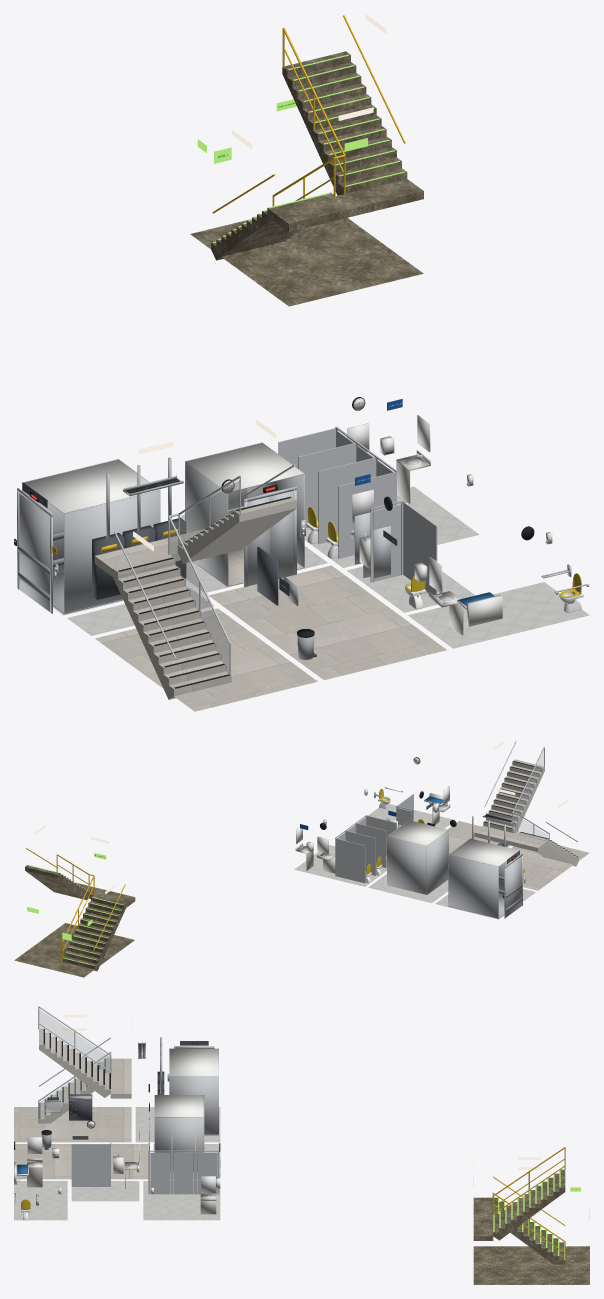
Rendered from 08_n1_nucleo_y_escaleras.glb.
The picture shows the model from 3 angles, top to bottom: view 1: azimuth 30°, elevation 25°; view 2: azimuth 150°, elevation 25°; view 3: azimuth 270°, elevation 25°; orthographic projection. The views are drawn at different scales.
Parts seen in each view (by area): view 1: escalera de dos tramos, escalera de dos tramos.002, piso · Vestíbulo de elevador, piso · Escalera de emergencia, cabina_montacargas, cabina_elevador_accesible, mamparas de sanitario, piso · Escalera principal, piso · Sanitario neutro, puertas_montacargas, mamparas de sanitario.001, puertas_elevador_120 (+9 smaller); view 2: escalera de dos tramos.002, escalera de dos tramos, cabina_montacargas, cabina_elevador_accesible, mamparas de sanitario, piso · Escalera de emergencia, piso · Escalera principal, puertas_montacargas, lavabo_ceramica (×2), piso · Elevador, piso · Sanitarios · mujeres, piso · Vestíbulo de elevador (+2 smaller); view 3: escalera de dos tramos, escalera de dos tramos.002, piso · Escalera de emergencia, piso · Escalera principal, mamparas de sanitario, cabina_elevador_accesible, cabina_montacargas, piso · Vestíbulo de elevador, piso · Sanitarios · mujeres, piso · Sanitario neutro, mamparas de sanitario.001, lavabo_ceramica (×2) (+3 smaller).
Part boxes in pixels (x1,y1,x2,y2): escalera de dos tramos: (94, 419, 296, 699); escalera de dos tramos.002: (211, 14, 423, 260); piso · Vestíbulo de elevador: (208, 565, 446, 680); piso · Escalera de emergencia: (190, 218, 423, 306); cabina_montacargas: (22, 459, 160, 614); cabina_elevador_accesible: (185, 442, 304, 586); mamparas de sanitario: (278, 426, 397, 558); piso · Escalera principal: (95, 608, 317, 711); piso · Sanitario neutro: (408, 582, 589, 648); puertas_montacargas: (17, 488, 58, 613); mamparas de sanitario.001: (370, 500, 437, 594); puertas_elevador_120: (243, 484, 305, 587); escalera de dos tramos.002: (25, 824, 135, 971); escalera de dos tramos: (474, 740, 578, 866); cabina_montacargas: (448, 838, 520, 918); cabina_elevador_accesible: (387, 820, 448, 894); mamparas de sanitario: (335, 815, 396, 883); piso · Escalera de emergencia: (14, 923, 134, 977); piso · Escalera principal: (511, 846, 589, 890); puertas_montacargas: (504, 853, 525, 918); lavabo_ceramica (×2): (295, 827, 335, 873); piso · Elevador: (368, 874, 448, 903); piso · Sanitarios · mujeres: (294, 845, 386, 886); piso · Vestíbulo de elevador: (447, 821, 510, 853); escalera de dos tramos: (38, 1006, 131, 1123); escalera de dos tramos.002: (473, 1147, 565, 1264); piso · Escalera de emergencia: (473, 1246, 589, 1284); piso · Escalera principal: (14, 1107, 131, 1142); mamparas de sanitario: (148, 1135, 219, 1194); cabina_elevador_accesible: (154, 1095, 204, 1172); cabina_montacargas: (169, 1048, 218, 1135); piso · Vestíbulo de elevador: (14, 1144, 148, 1179); piso · Sanitarios · mujeres: (143, 1181, 220, 1220); piso · Sanitario neutro: (14, 1181, 67, 1220); mamparas de sanitario.001: (71, 1134, 111, 1186); lavabo_ceramica (×2): (27, 1137, 216, 1214).
Size of the model in its own units: 16.3 by 5.58 by 22.05.
42 materials, 9 textured.
